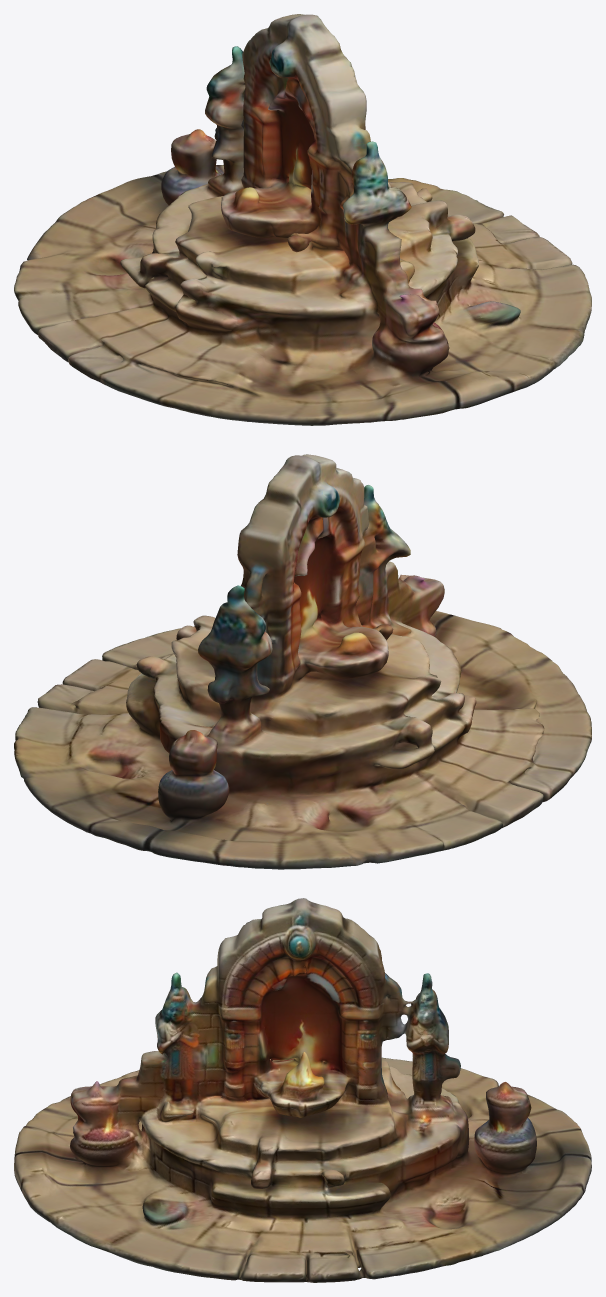
Rendered from shrine.glb.
3 renders of one model, top to bottom at view 1: azimuth 30°, elevation 25°; view 2: azimuth 150°, elevation 25°; view 3: azimuth 270°, elevation 25°, orthographic. The views are drawn at different scales.
Visible parts, largest first — view 1: tripo_node_3d85e0f3-306d-4b5f-adb0-b95bc2502a2f; view 2: tripo_node_3d85e0f3-306d-4b5f-adb0-b95bc2502a2f; view 3: tripo_node_3d85e0f3-306d-4b5f-adb0-b95bc2502a2f.
Boxes of the visible parts, left/top/right/bottom form: tripo_node_3d85e0f3-306d-4b5f-adb0-b95bc2502a2f: left=14, top=14, right=591, bottom=425; tripo_node_3d85e0f3-306d-4b5f-adb0-b95bc2502a2f: left=14, top=454, right=591, bottom=869; tripo_node_3d85e0f3-306d-4b5f-adb0-b95bc2502a2f: left=14, top=898, right=591, bottom=1282.
Bounding box in the file's own units: 0.6771 × 0.4518 × 0.7454.
1 material, 1 textured.
